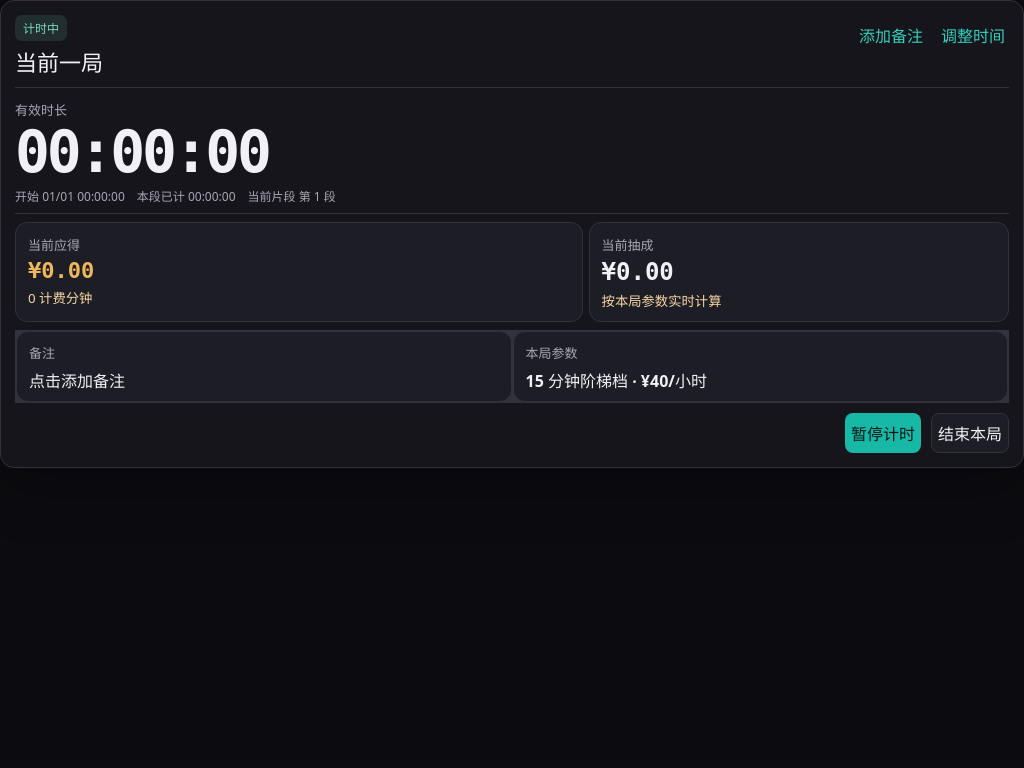
Scenario: TimerPage states › keeps billing settings draft open when saving current-session parameters fails
The image size is (1024, 768).
Click the button "本局参数 15 分钟阶梯档 · ¥40/小时".
click(552, 353)  # box [512, 331, 1008, 402]
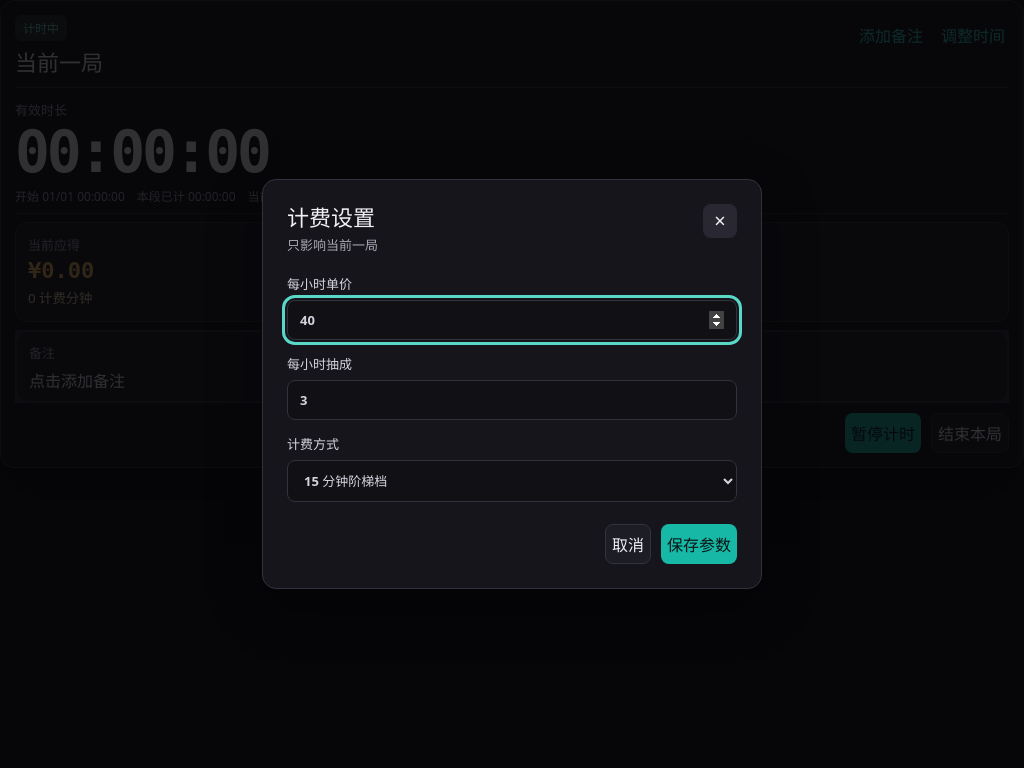
Replace the text in the number field labelled "每小时单价" with "50" at (512, 320), box [287, 300, 737, 340]
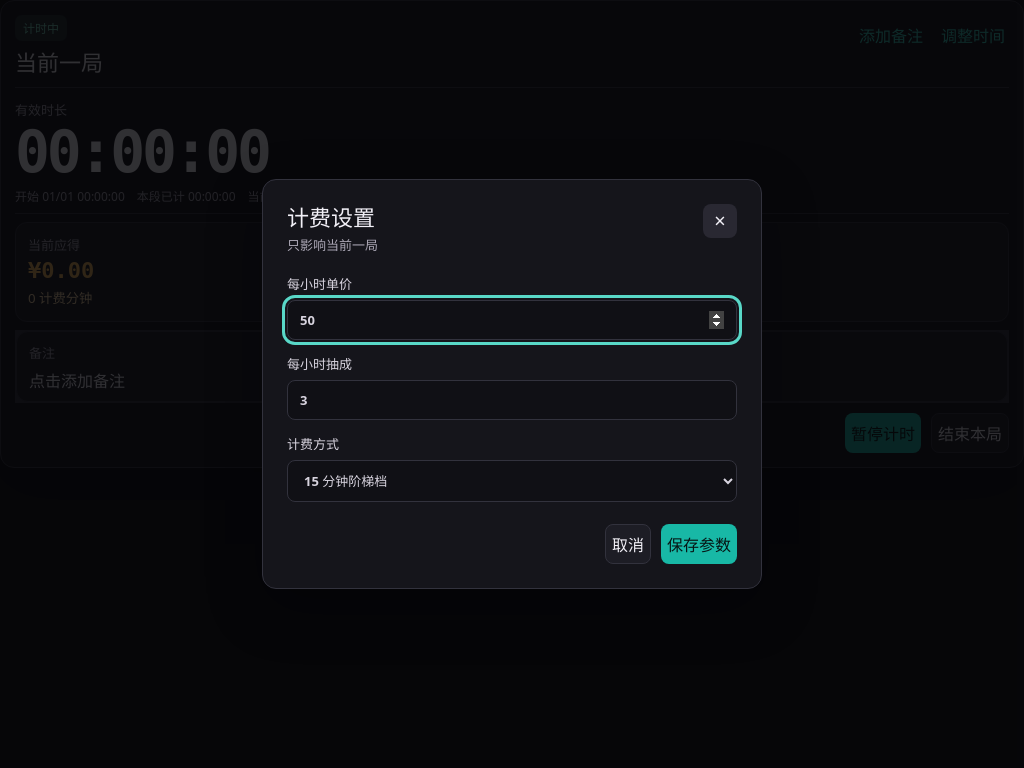
Click the button "保存参数".
click(699, 544)  # box [661, 524, 737, 564]
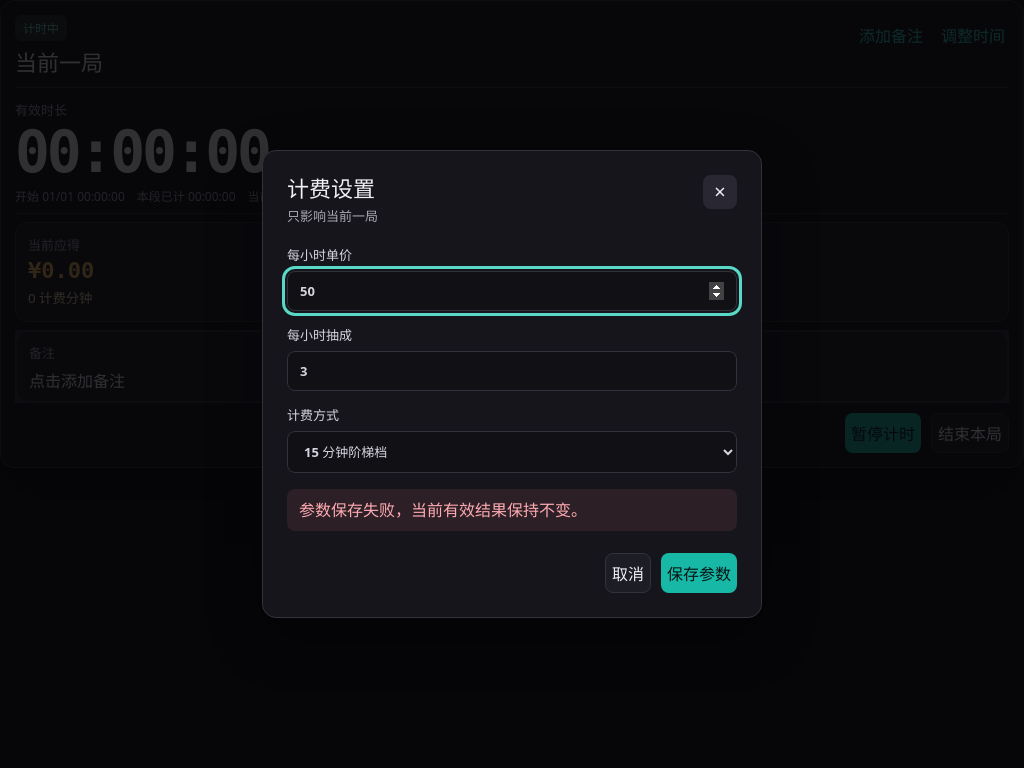
Now the dialog "计费设置" is shown, box [262, 150, 762, 618]
Now the text "参数保存失败，当前有效结果保持不变。" is shown, box [287, 489, 737, 531]
